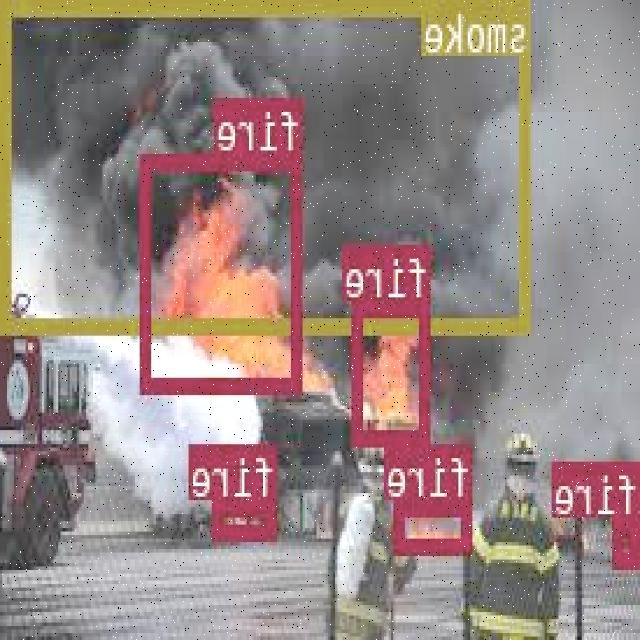fire: (144, 150, 304, 392), (355, 300, 431, 442), (398, 498, 474, 550), (216, 498, 279, 538), (614, 516, 640, 565)
smoke: (4, 0, 534, 329)
